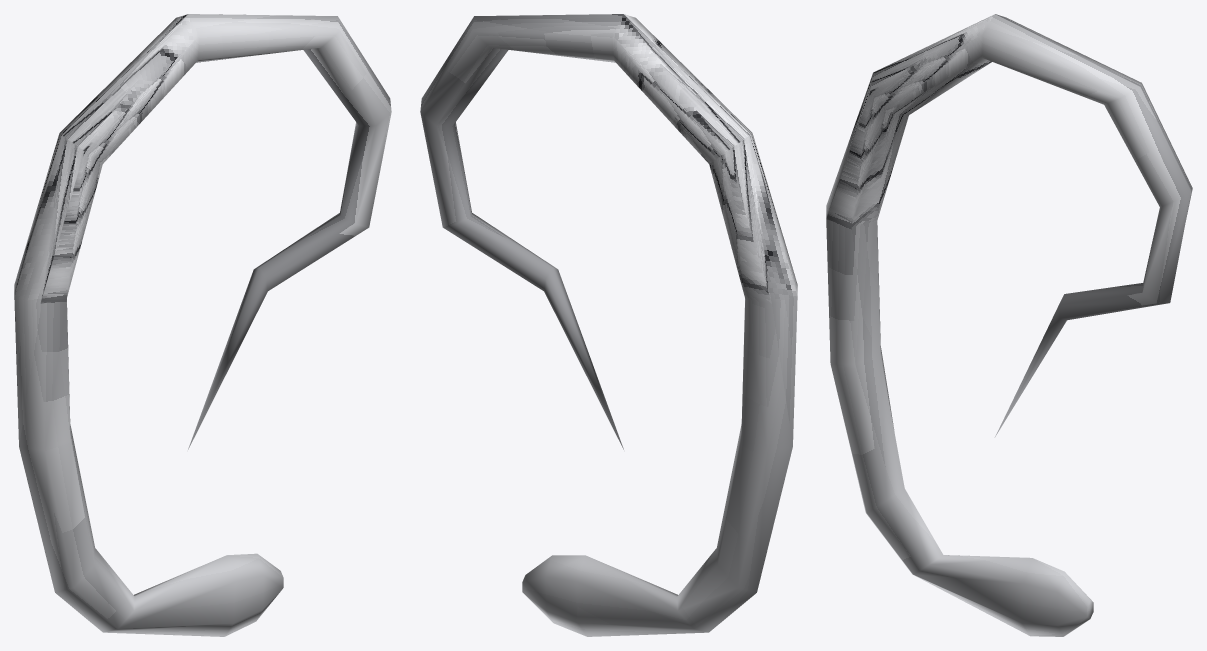
File: snake_000024.obj
The picture shows the model from 3 angles, left to right: view 1: azimuth 30°, elevation 25°; view 2: azimuth 150°, elevation 25°; view 3: azimuth 330°, elevation 25°; orthographic projection. The views are drawn at different scales.
Visible parts, largest first — view 1: Cylinder; view 2: Cylinder; view 3: Cylinder.
Boxes of the visible parts, box(x1,y1,x2,y2) form: Cylinder: box(14, 14, 391, 636); Cylinder: box(420, 14, 797, 636); Cylinder: box(826, 14, 1192, 636).
Bounding box in the file's own units: 3.04 × 4.89 × 0.3671.
